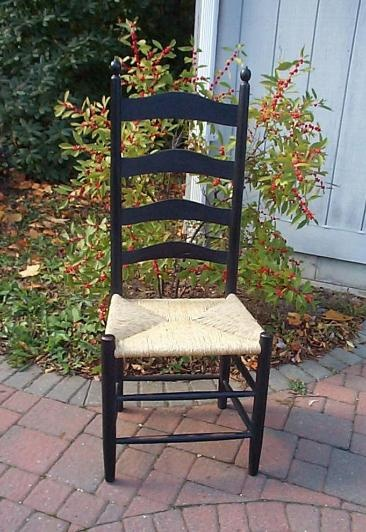obstacle: (101, 59, 271, 481)
